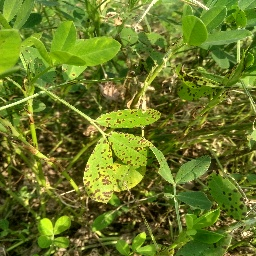GroundNut_Leaf: (86, 131, 151, 201), (52, 18, 122, 68), (211, 173, 248, 223), (89, 107, 164, 129), (175, 153, 212, 186), (38, 214, 72, 249), (179, 14, 208, 51), (1, 27, 23, 74), (210, 26, 251, 47), (191, 227, 225, 243)
